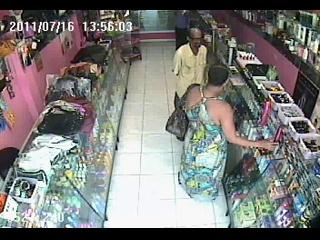Normal: (177, 63, 279, 212), (172, 28, 212, 100), (165, 90, 190, 141)
